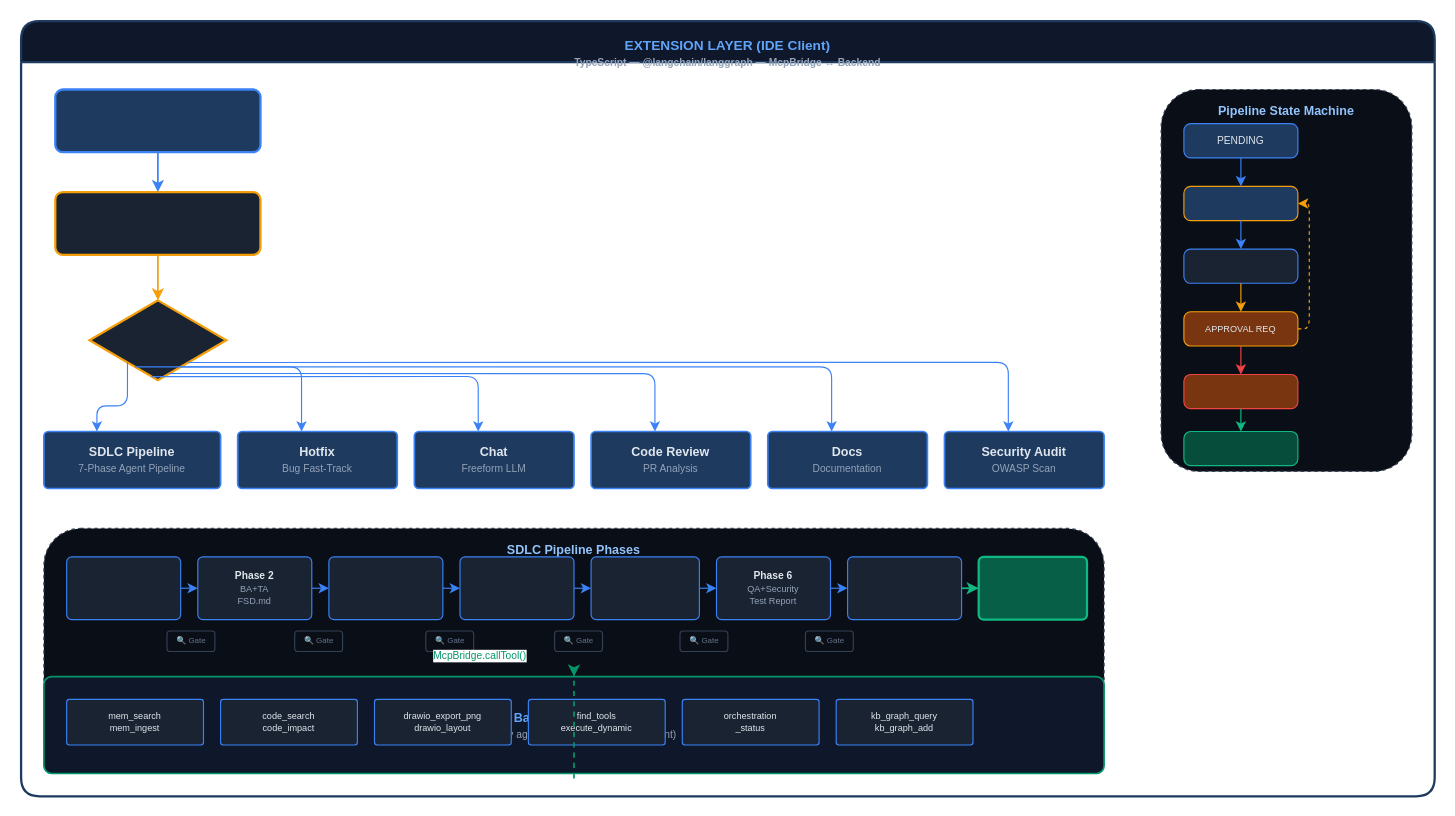
Image size: 1455x816. Some labels were removed from this diagram. Each missing label, with the centre of its shape:
"[PHASE LOOP]" belongs at point (1240, 265).
"ACTIVE" belongs at point (1240, 203).
"Classify Intent AnalyzeInputNode" belongs at point (157, 222).
"COMPLETED" belongs at point (1240, 448).
"Delivery Production Deploy" belongs at point (1032, 587).
"HUMAN INTERVNTN" belongs at point (1240, 391).
"Phase 1 BA BRD.md" belongs at point (123, 588).
"Phase 3 SA TDD.md" belongs at point (385, 588).
"Phase 4 QA STP+STC.md" belongs at point (516, 588).
"Phase 5 DEV Source Code" belongs at point (644, 588).
"Phase 7 DevOps DPG+RLN.md" belongs at point (904, 588).
"Router" belongs at point (157, 340).
"User Input @sm-agent KSA-14" belongs at point (157, 120).
